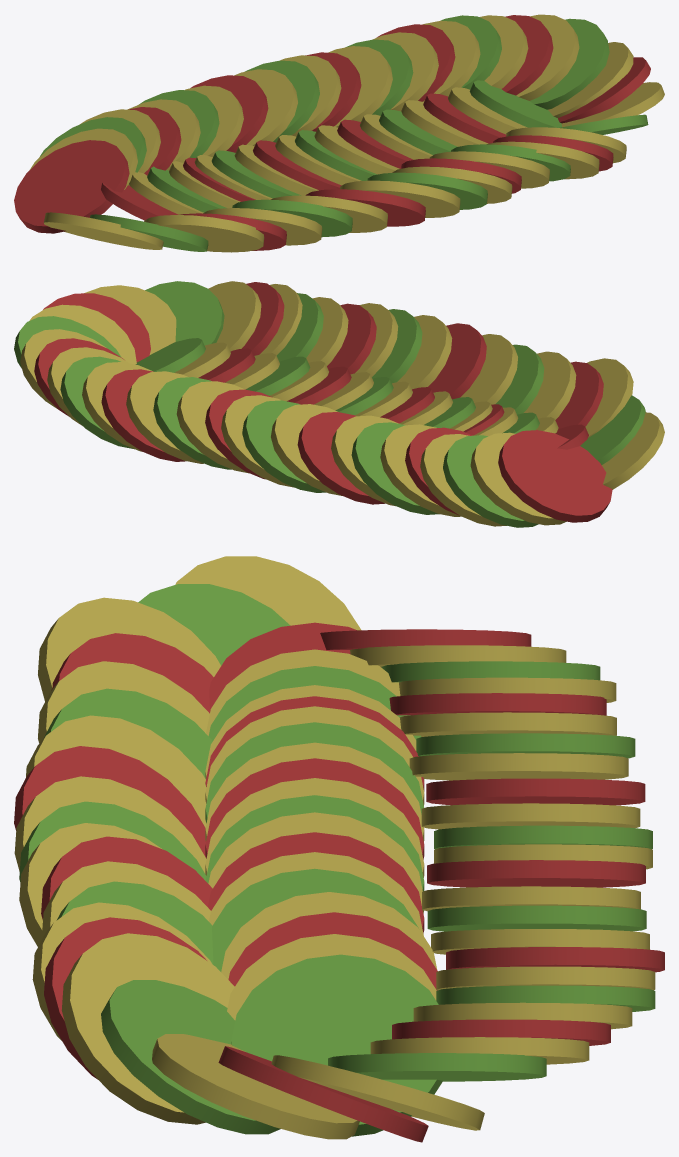
The model's file is cooked_ratatouille_mix.fbx.
3 views of the same model, one above another, from view 1: azimuth 30°, elevation 25°; view 2: azimuth 150°, elevation 25°; view 3: azimuth 270°, elevation 25° (orthographic). The views are drawn at different scales.
Parts seen in each view (by area): view 1: pCylinder52, pCylinder19, pCylinder72, pCylinder10, pCylinder43, pCylinder18, pCylinder41, pCylinder44, pCylinder70, pCylinder32, pCylinder17, pCylinder12 (+51 smaller); view 2: pCylinder52, pCylinder23, pCylinder44, pCylinder51, pCylinder50, pCylinder46, pCylinder42, pCylinder33, pCylinder10, pCylinder12, pCylinder24, pCylinder22 (+50 smaller); view 3: pCylinder70, pCylinder24, pCylinder23, pCylinder22, pCylinder72, pCylinder41, pCylinder34, pCylinder33, pCylinder40, pCylinder8, pCylinder45, pCylinder44 (+51 smaller).
Boxes of the visible parts, <box> form: pCylinder52: <box>14,140,129,233</box>; pCylinder19: <box>530,18,609,109</box>; pCylinder72: <box>144,215,264,252</box>; pCylinder10: <box>328,46,392,127</box>; pCylinder43: <box>234,69,297,145</box>; pCylinder18: <box>516,14,579,100</box>; pCylinder41: <box>43,212,163,249</box>; pCylinder44: <box>190,75,268,152</box>; pCylinder70: <box>469,80,561,127</box>; pCylinder32: <box>340,180,460,217</box>; pCylinder17: <box>502,15,553,95</box>; pCylinder12: <box>373,32,438,111</box>; pCylinder52: <box>498,430,612,522</box>; pCylinder23: <box>145,281,224,345</box>; pCylinder44: <box>297,412,385,504</box>; pCylinder51: <box>470,432,566,525</box>; pCylinder50: <box>443,435,538,527</box>; pCylinder46: <box>351,422,439,514</box>; pCylinder42: <box>242,400,325,492</box>; pCylinder33: <box>428,323,486,399</box>; pCylinder10: <box>176,381,249,473</box>; pCylinder12: <box>126,371,203,463</box>; pCylinder24: <box>208,281,261,351</box>; pCylinder22: <box>84,285,176,354</box>; pCylinder70: <box>231,954,442,1136</box>; pCylinder24: <box>61,933,234,1124</box>; pCylinder23: <box>101,980,280,1134</box>; pCylinder22: <box>152,1034,359,1139</box>; pCylinder72: <box>38,597,220,701</box>; pCylinder41: <box>175,556,361,630</box>; pCylinder34: <box>26,715,206,827</box>; pCylinder33: <box>14,746,205,857</box>; pCylinder40: <box>138,584,290,665</box>; pCylinder8: <box>427,860,645,887</box>; pCylinder45: <box>409,753,628,780</box>; pCylinder44: <box>426,778,645,805</box>.
Bounding box in the file's own units: 61.03 × 7.79 × 31.54.
